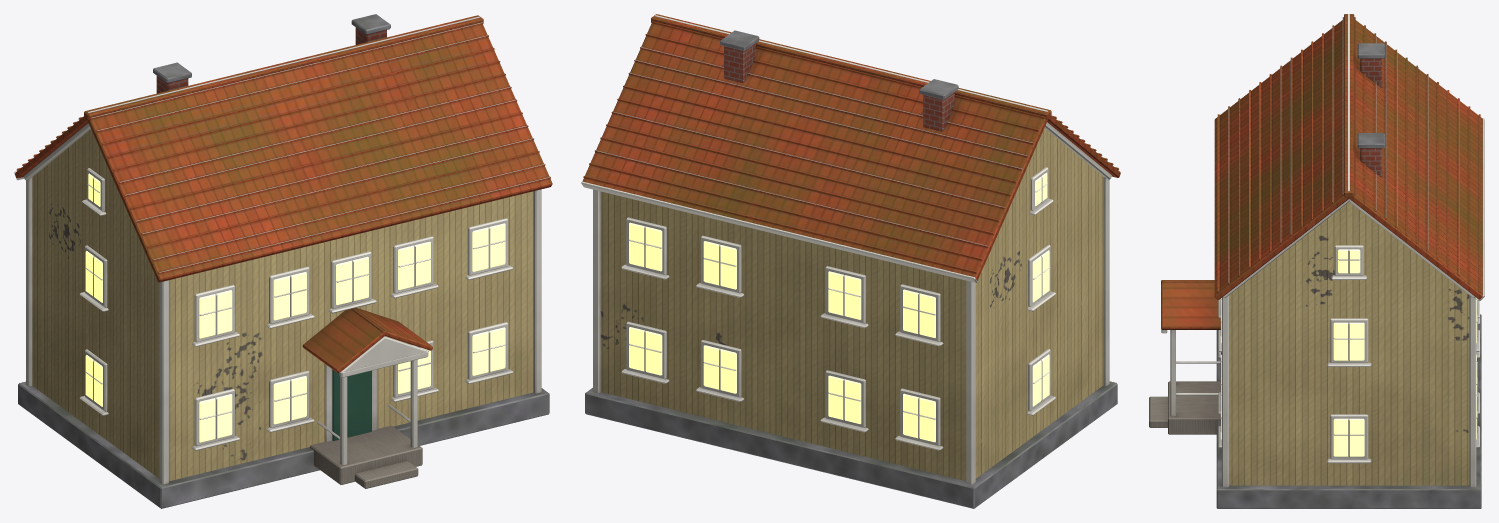
The model's file is storgard_tex.glb.
The picture shows the model from 3 angles, left to right: view 1: azimuth 30°, elevation 25°; view 2: azimuth 150°, elevation 25°; view 3: azimuth 270°, elevation 25°; orthographic projection. The views are drawn at different scales.
Parts seen in each view (by area): view 1: storgard; view 2: storgard; view 3: storgard.
Part boxes in pixels (box(x1,y1,x2,y2)): storgard: box(14, 14, 552, 508); storgard: box(581, 14, 1120, 508); storgard: box(1149, 14, 1484, 508).
Bounding box in the file's own units: 9.55 × 8.19 × 7.59.
Materials: 8 (7 with a texture image).
